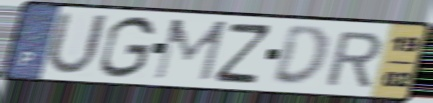D: (268, 24, 330, 90)
G: (96, 14, 158, 80)
M: (150, 17, 231, 83)
R: (322, 30, 385, 89)
U: (42, 9, 111, 78)
Z: (212, 22, 275, 85)
